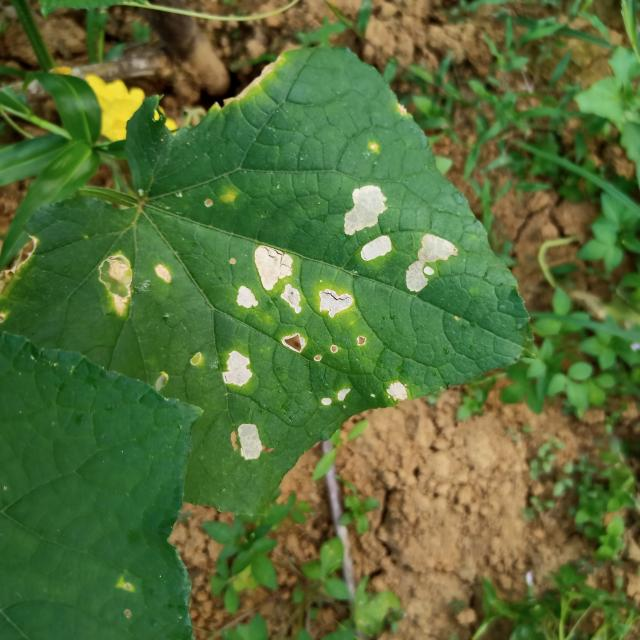disease_cucumber: (234, 242, 355, 353), (96, 253, 174, 316), (341, 181, 395, 264), (403, 231, 460, 296), (219, 347, 254, 388), (236, 422, 264, 462), (318, 382, 354, 410), (383, 375, 410, 405)
